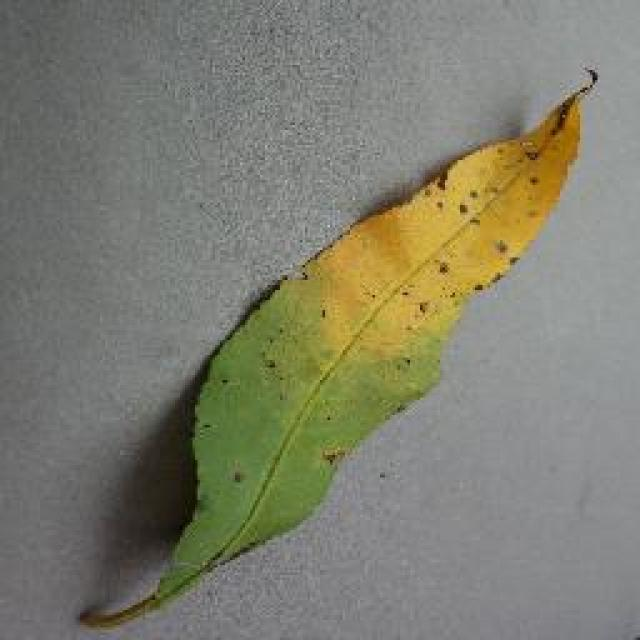Peach_Bacterial_Spot: (315, 185, 530, 472)
